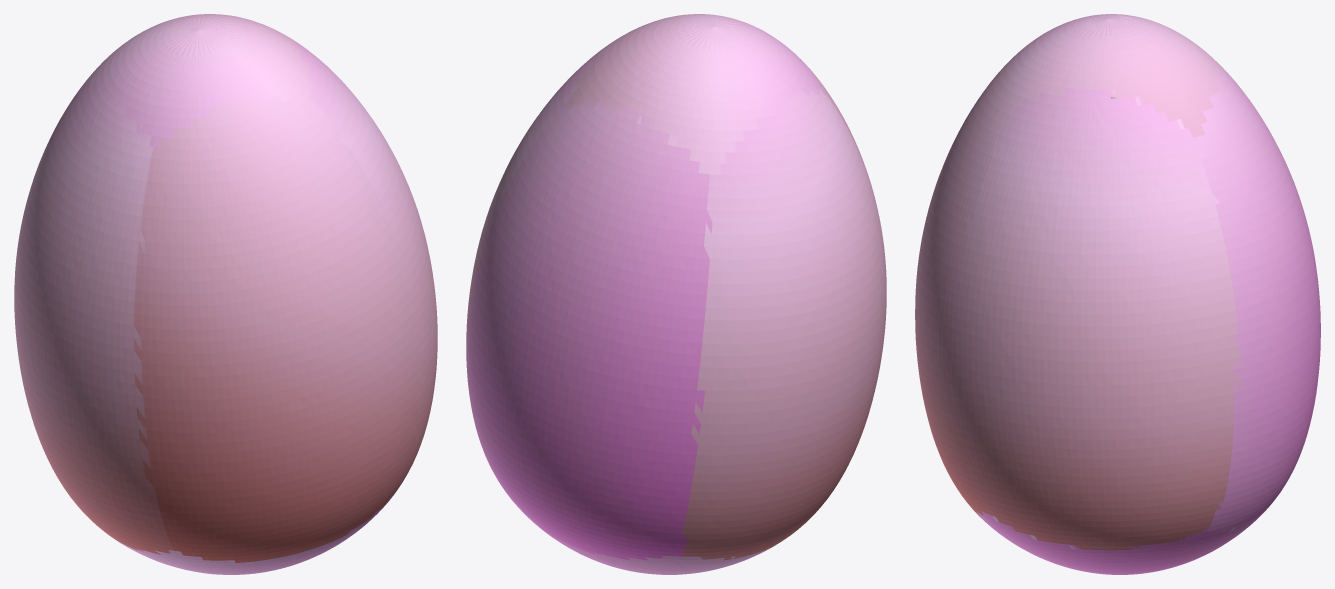
The model's file is egg.obj.
The picture shows the model from 3 angles, left to right: view 1: azimuth 30°, elevation 25°; view 2: azimuth 150°, elevation 25°; view 3: azimuth 270°, elevation 25°; orthographic projection. The views are drawn at different scales.
Visible parts, largest first — view 1: <STL_BINARY>; view 2: <STL_BINARY>; view 3: <STL_BINARY>.
Boxes of the visible parts, left/top/right/bottom form: <STL_BINARY>: left=14, top=14, right=437, bottom=574; <STL_BINARY>: left=466, top=14, right=886, bottom=574; <STL_BINARY>: left=915, top=14, right=1320, bottom=574.
Size of the model in its own units: 2.37 by 3.32 by 2.35.
Materials: 1 (1 with a texture image).
